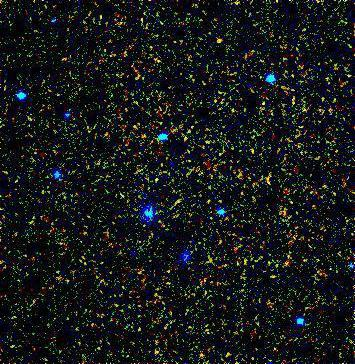star: (117, 231, 147, 261)
